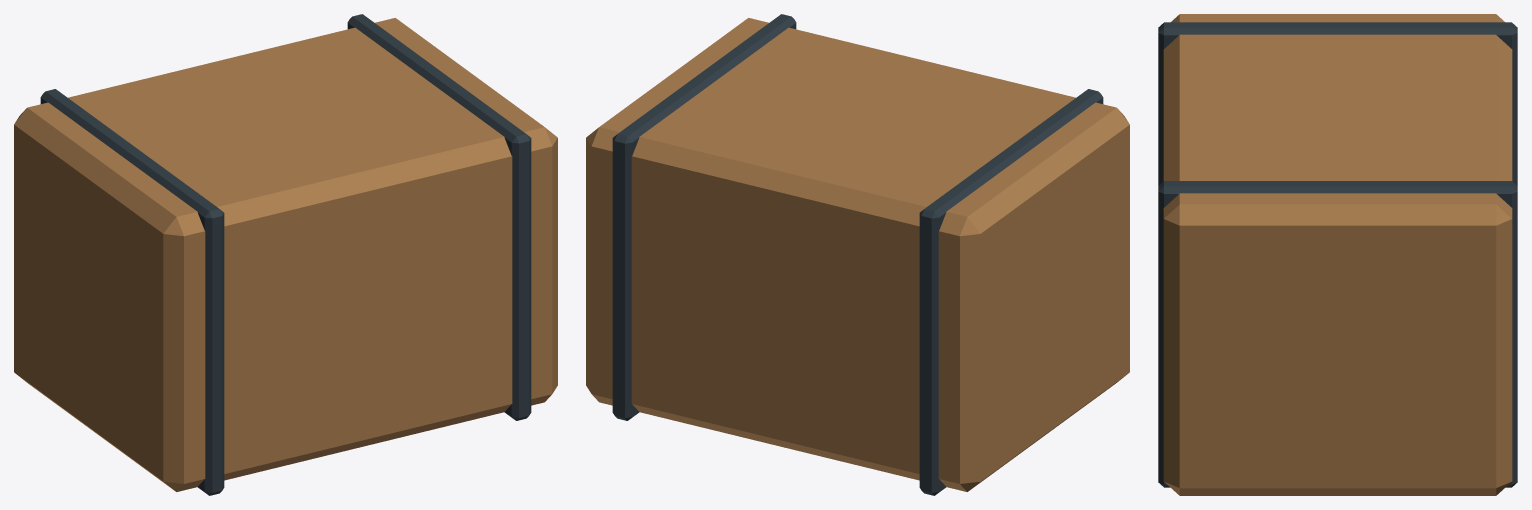
The model's file is cargo.lod0.glb.
The picture shows the model from 3 angles, left to right: view 1: azimuth 30°, elevation 25°; view 2: azimuth 150°, elevation 25°; view 3: azimuth 270°, elevation 25°; orthographic projection. The views are drawn at different scales.
Parts seen in each view (by area): view 1: structure; view 2: structure; view 3: structure.
Part boxes in pixels (x1,y1,x2,y2): structure: [14, 14, 557, 495]; structure: [586, 14, 1129, 495]; structure: [1158, 14, 1517, 495].
Size of the model in its own units: 1.8 by 1.24 by 1.34.
